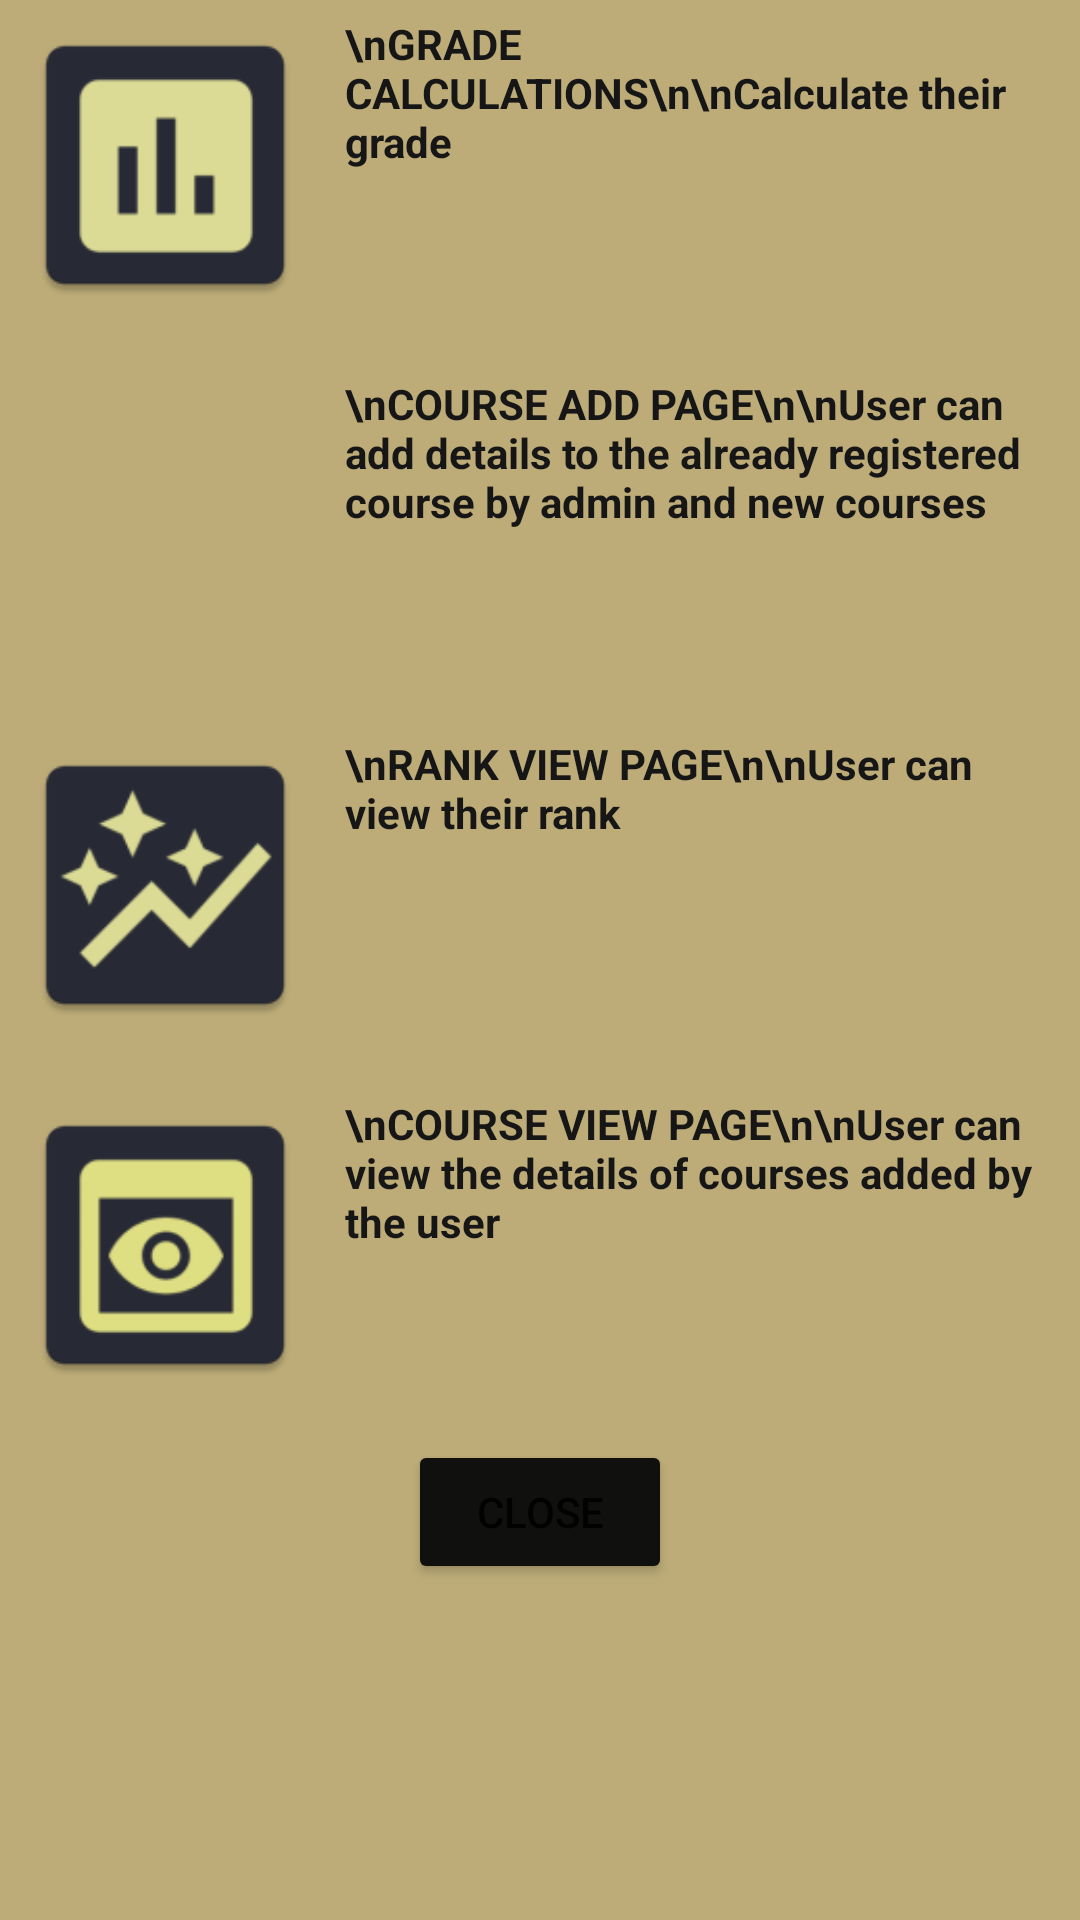

Named icons in this screenshot (1080px x 1920px) and their bounding boxes, (x1, y1, x2, y2):
gradedash expectimage: (45, 45, 286, 290)
gradedash viewrankimage: (45, 765, 286, 1010)
std area viewstddetail: (45, 1125, 286, 1370)
